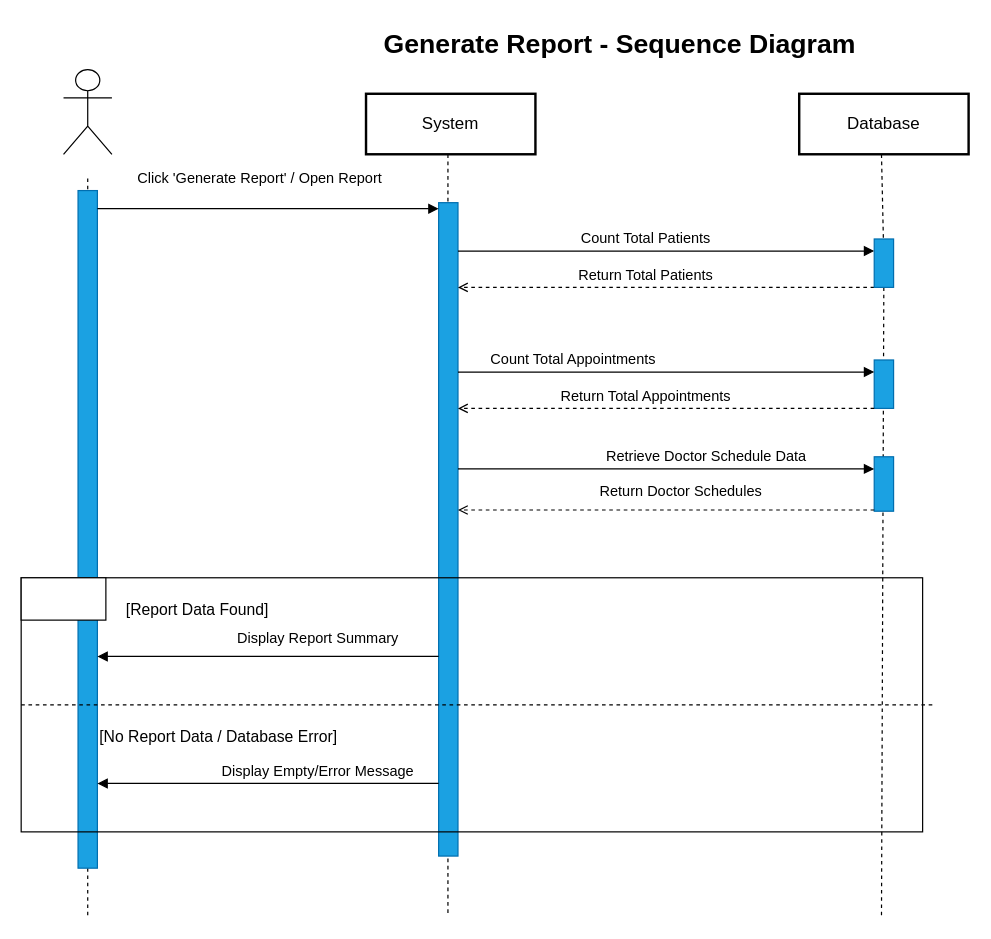
This 991x939 diagram has some shape labels left out. Each missing label, with the centre of its shape:
"Admin" goes at (87,111).
"alt" goes at (63,598).
